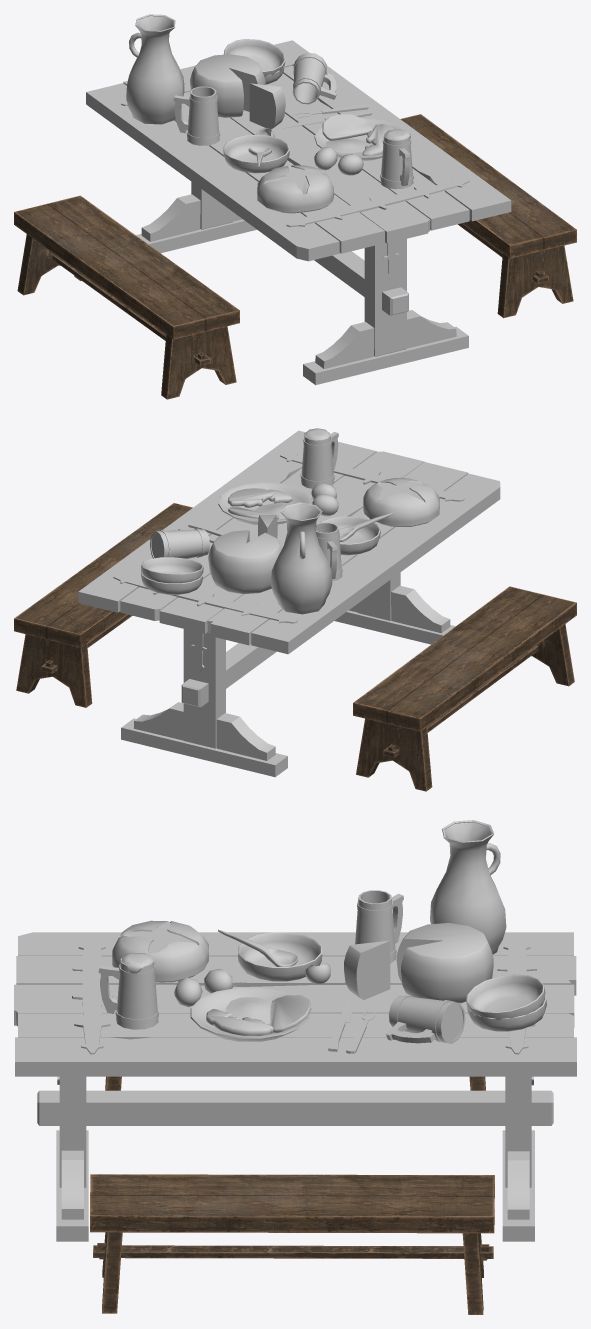
The model's file is tavern_table.fbx.
3 renders of one model, top to bottom at view 1: azimuth 30°, elevation 25°; view 2: azimuth 150°, elevation 25°; view 3: azimuth 270°, elevation 25°, orthographic. The views are drawn at different scales.
Visible parts, largest first — view 1: table, bench, mug, jug, cheese, bread, bowl, bowls, bread_slice, eggs, plate, cutlery (+2 smaller); view 2: table, bench, jug, mug, cheese, bread, bowls, plate, bowl, beef, eggs; view 3: table, bench, mug, cheese, jug, bread, bowls, bowl, plate, bread_slice, eggs, beef (+3 smaller).
Boxes of the visible parts, x1,y1,x2,y2 form: table: [86, 40, 511, 385]; bench: [14, 114, 576, 399]; mug: [173, 53, 413, 189]; jug: [126, 14, 184, 124]; cheese: [190, 54, 285, 129]; bread: [257, 165, 333, 213]; bowl: [223, 134, 289, 173]; bowls: [223, 39, 285, 84]; bread_slice: [322, 114, 372, 140]; eggs: [314, 146, 363, 175]; plate: [314, 118, 403, 160]; cutlery: [283, 104, 371, 128]; table: [78, 430, 500, 777]; bench: [14, 503, 576, 791]; jug: [271, 502, 332, 614]; mug: [150, 428, 342, 581]; cheese: [208, 515, 281, 594]; bread: [363, 477, 439, 526]; bowls: [141, 557, 203, 594]; plate: [218, 482, 312, 524]; bowl: [319, 516, 380, 555]; beef: [227, 488, 292, 507]; eggs: [311, 483, 338, 516]; table: [14, 932, 576, 1241]; bench: [90, 1076, 494, 1314]; mug: [98, 890, 465, 1043]; cheese: [344, 923, 493, 1003]; jug: [430, 820, 506, 954]; bread: [112, 920, 208, 982]; bowls: [466, 974, 546, 1031]; bowl: [238, 932, 322, 981]; plate: [190, 987, 309, 1041]; bread_slice: [270, 995, 311, 1032]; eggs: [174, 969, 232, 1006]; beef: [206, 1009, 273, 1035].
Size of the model in its own units: 428 by 245 by 398.
